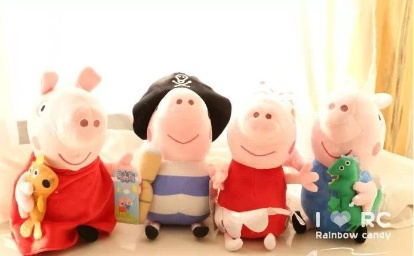Peppa: (14, 69, 119, 256), (219, 92, 307, 247)
